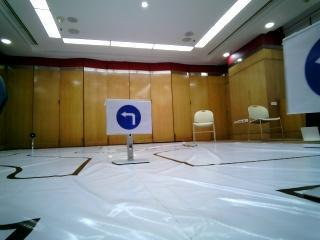left: (109, 100, 147, 129)
